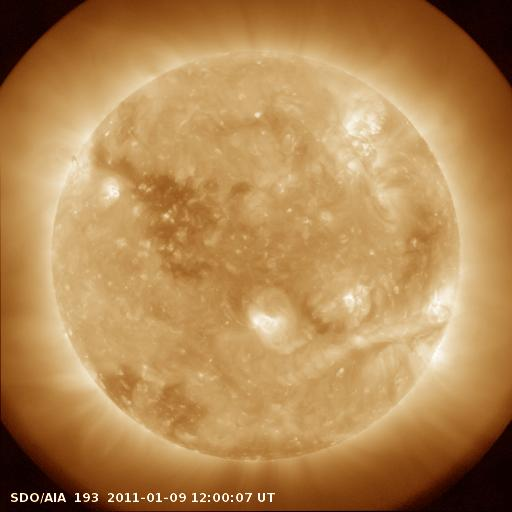coronal_hole: (91, 146, 231, 286), (154, 378, 208, 446), (89, 354, 144, 416)
